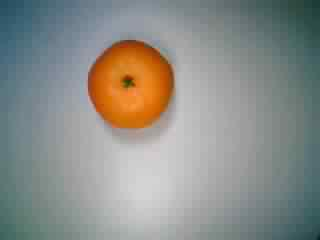orange: (85, 37, 176, 133)
